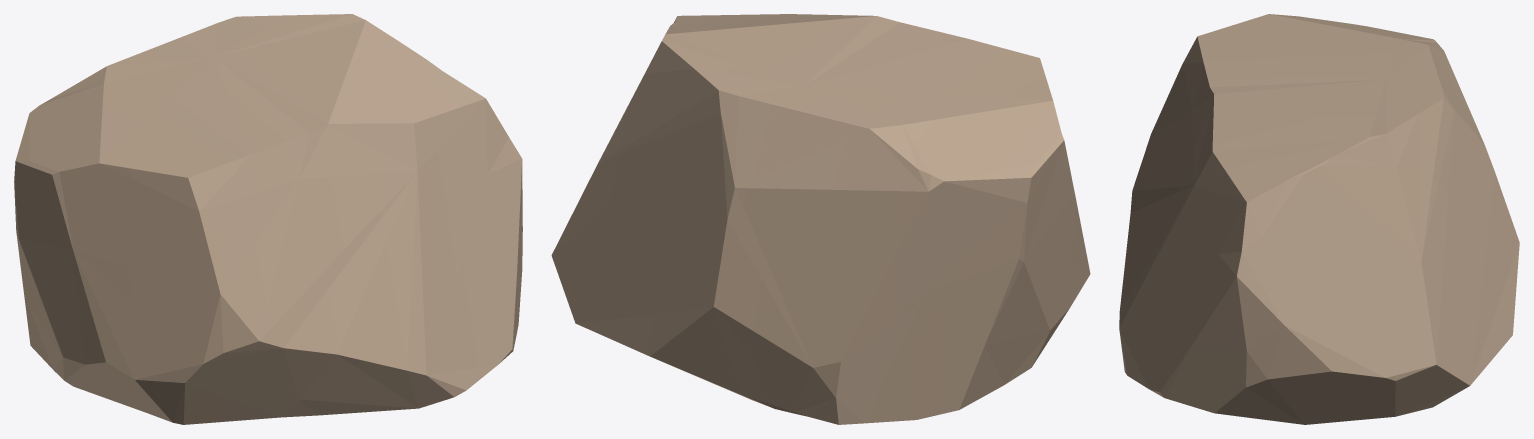
File: fm_boulder_mossy_a.glb
3 views of the same model, side by side, from view 1: azimuth 30°, elevation 25°; view 2: azimuth 150°, elevation 25°; view 3: azimuth 270°, elevation 25° (orthographic). The views are drawn at different scales.
Parts seen in each view (by area): view 1: SM_Env_Rock_02; view 2: SM_Env_Rock_02; view 3: SM_Env_Rock_02.
Boxes of the visible parts, left/top/right/bottom form: SM_Env_Rock_02: left=14, top=14, right=522, bottom=424; SM_Env_Rock_02: left=551, top=14, right=1090, bottom=424; SM_Env_Rock_02: left=1119, top=14, right=1519, bottom=424.
Size of the model in its own units: 1.56 by 0.9493 by 1.27.
Materials: 1 (1 with a texture image).
